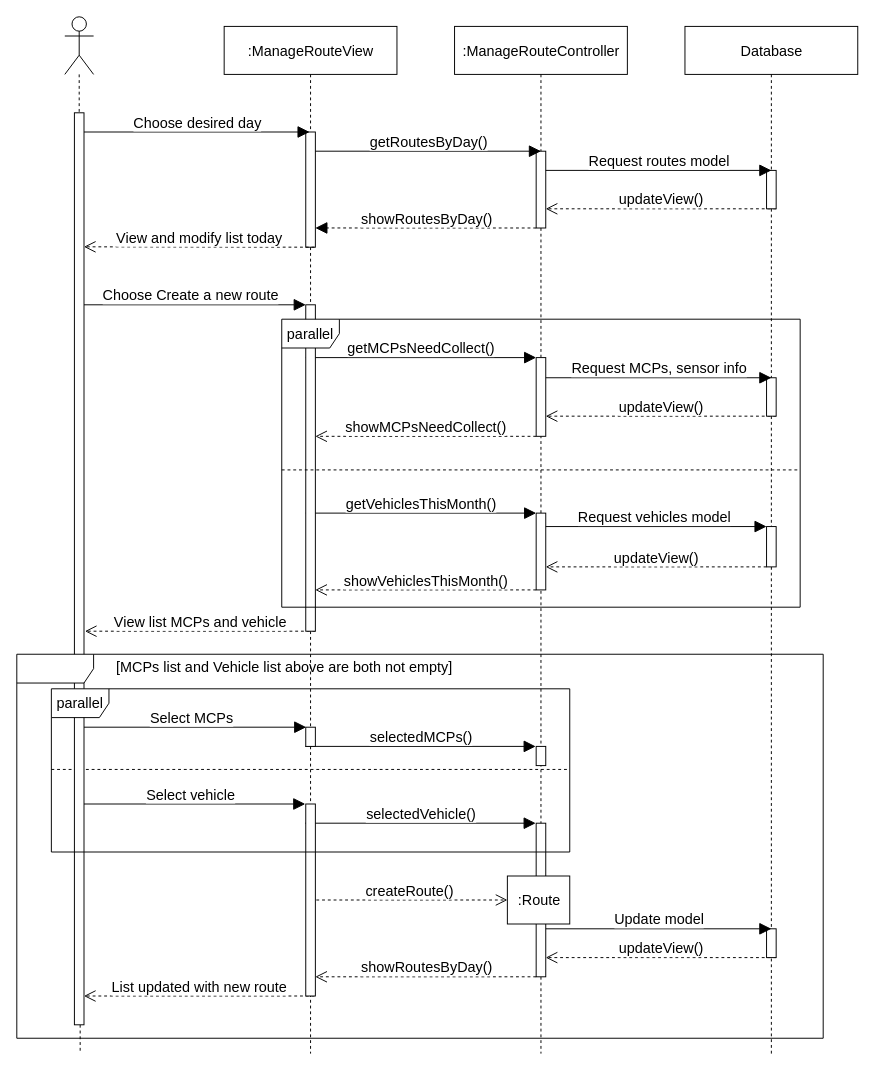
Some shapes in this 875 by 1071 pixel diagram are drawn without their labels. Here are the shapes that lost their labels. From the top down, the box of each, then its label:
(64, 16, 94, 74): Back officer
(16, 653, 823, 1038): option
